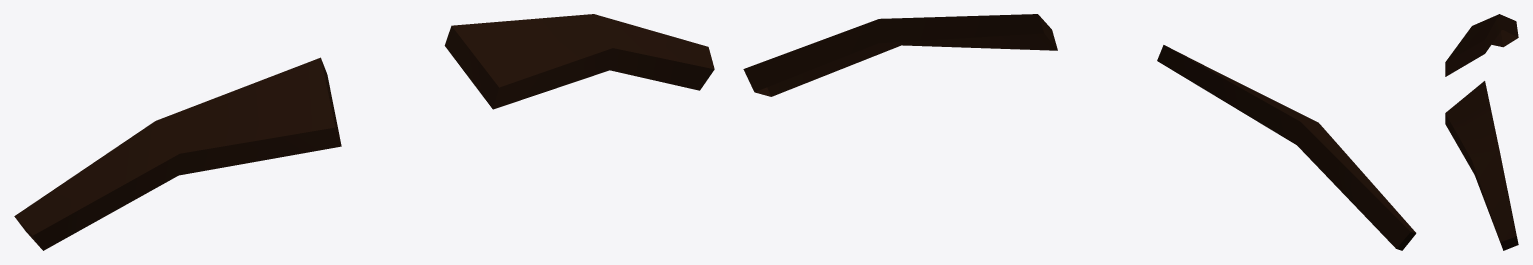
The model's file is Brow 04.FBX.
The picture shows the model from 3 angles, left to right: view 1: azimuth 30°, elevation 25°; view 2: azimuth 150°, elevation 25°; view 3: azimuth 270°, elevation 25°; orthographic projection. The views are drawn at different scales.
Parts seen in each view (by area): view 1: Brow 04; view 2: Brow 04; view 3: Brow 04.
Part boxes in pixels (bbox=[...]): Brow 04: bbox=[14, 14, 714, 250]; Brow 04: bbox=[743, 14, 1416, 250]; Brow 04: bbox=[1445, 14, 1518, 250].
Bounding box in the file's own units: 22.49 × 3.24 × 4.33.
